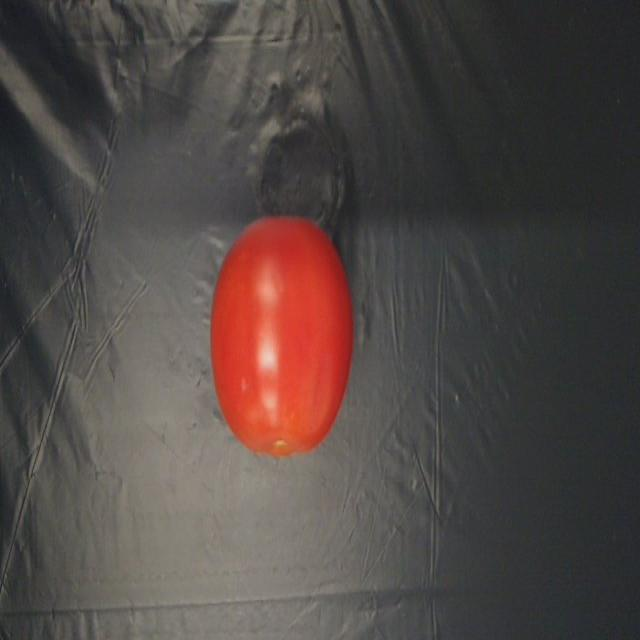kirmizi: (214, 212, 357, 454)
